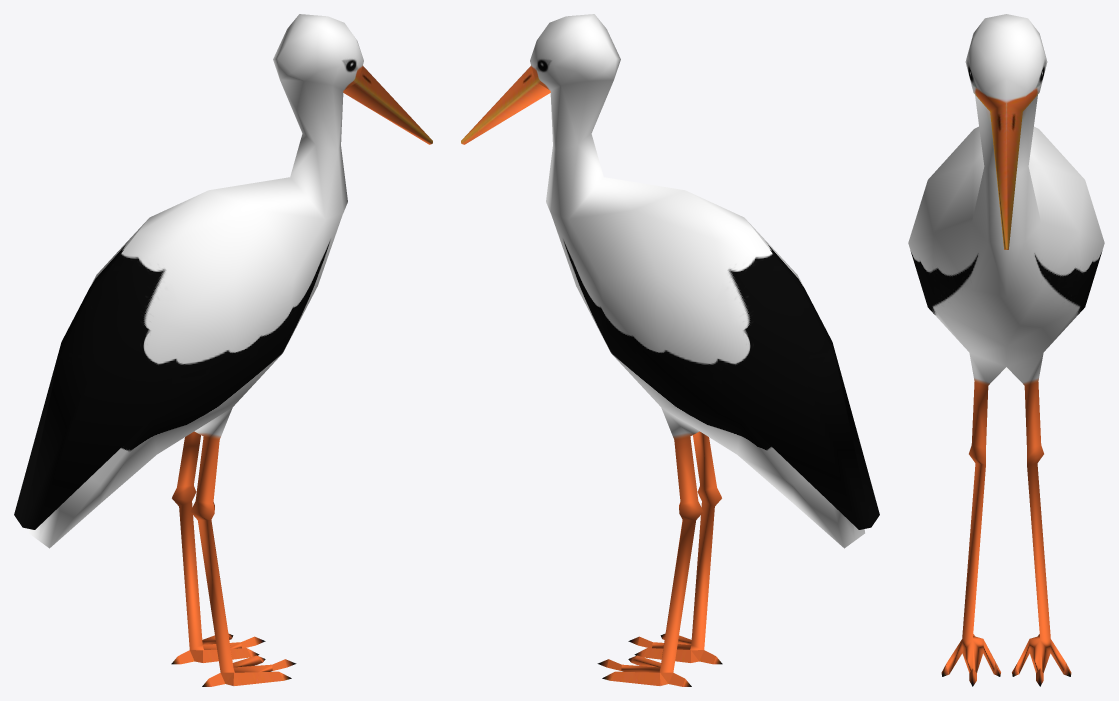
Rendered from stork.glb.
3 renders of one model, left to right at view 1: azimuth 30°, elevation 25°; view 2: azimuth 150°, elevation 25°; view 3: azimuth 270°, elevation 25°, orthographic. The views are drawn at different scales.
Visible parts, largest first — view 1: Stork; view 2: Stork; view 3: Stork.
Part boxes in pixels (left/top/right/bottom): Stork: left=14, top=14, right=432, bottom=686; Stork: left=461, top=14, right=879, bottom=686; Stork: left=908, top=14, right=1104, bottom=686.
Bounding box in the file's own units: 0.9353 × 1.36 × 0.3544.
1 material, 1 textured.
